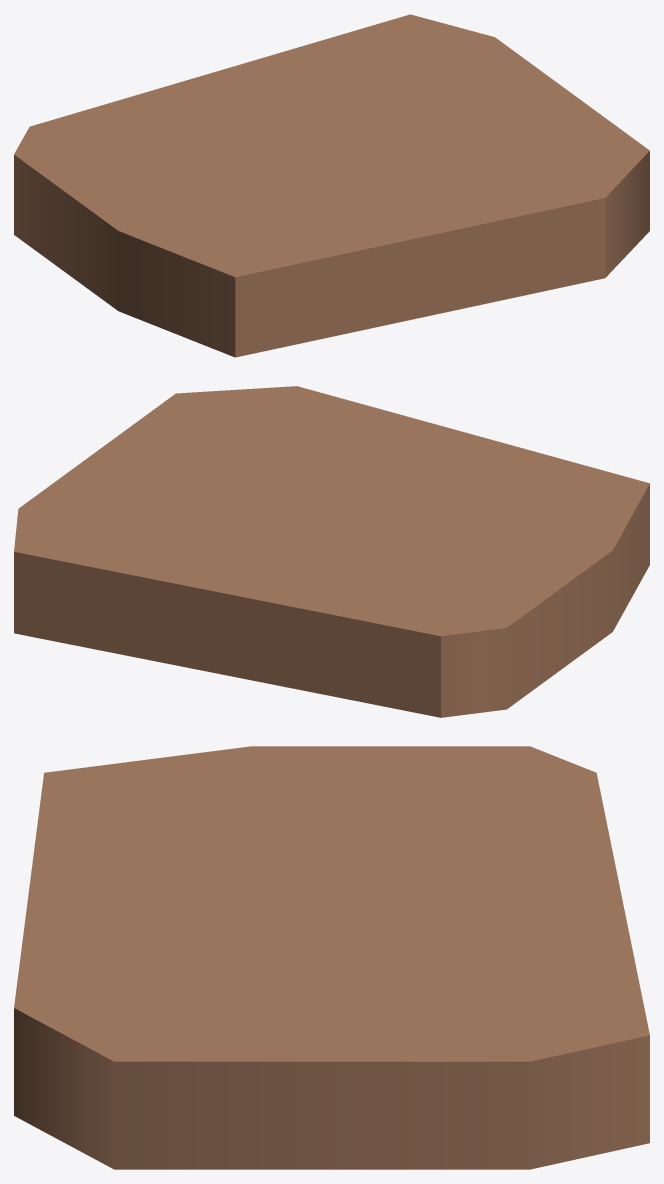
The model's file is FMP_Slab_2_Shaded_2.fbx.
3 views of the same model, one above another, from view 1: azimuth 30°, elevation 25°; view 2: azimuth 150°, elevation 25°; view 3: azimuth 270°, elevation 25° (orthographic). The views are drawn at different scales.
Parts seen in each view (by area): view 1: pCube148; view 2: pCube148; view 3: pCube148.
Part boxes in pixels (box(x1,y1,x2,y2)): pCube148: box(14, 14, 649, 357); pCube148: box(14, 386, 649, 717); pCube148: box(14, 746, 649, 1169).
Size of the model in its own units: 219 by 34.92 by 187.
